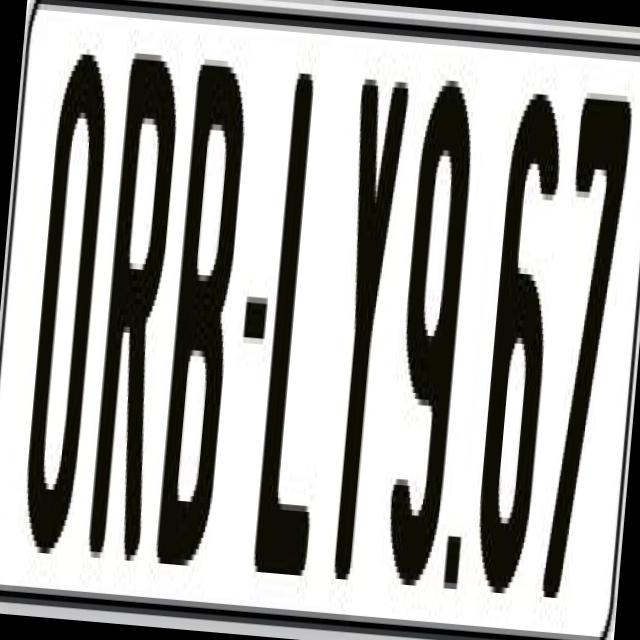0: (17, 34, 112, 554)
6: (469, 80, 571, 584)
7: (536, 98, 636, 636)
9: (384, 61, 484, 570)
B: (152, 52, 252, 573)
L: (252, 55, 354, 559)
R: (84, 41, 186, 579)
Y: (314, 67, 410, 592)
